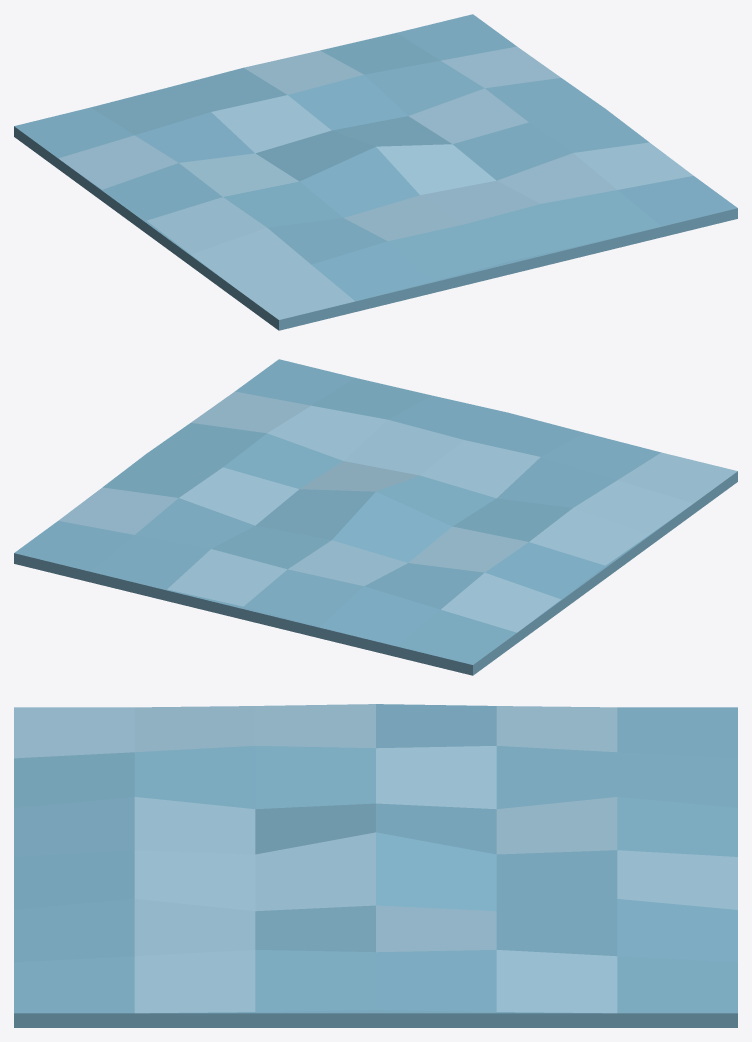
Rendered from animprop_water_07.glb.
3 renders of one model, top to bottom at view 1: azimuth 30°, elevation 25°; view 2: azimuth 150°, elevation 25°; view 3: azimuth 270°, elevation 25°, orthographic. The views are drawn at different scales.
Visible parts, largest first — view 1: animprop; view 2: animprop; view 3: animprop.
Part boxes in pixels (<box>): animprop: <box>14,14,737,330</box>; animprop: <box>14,359,737,675</box>; animprop: <box>14,704,737,1027</box>.
Bounding box in the file's own units: 1.8 × 0.1168 × 1.8.
